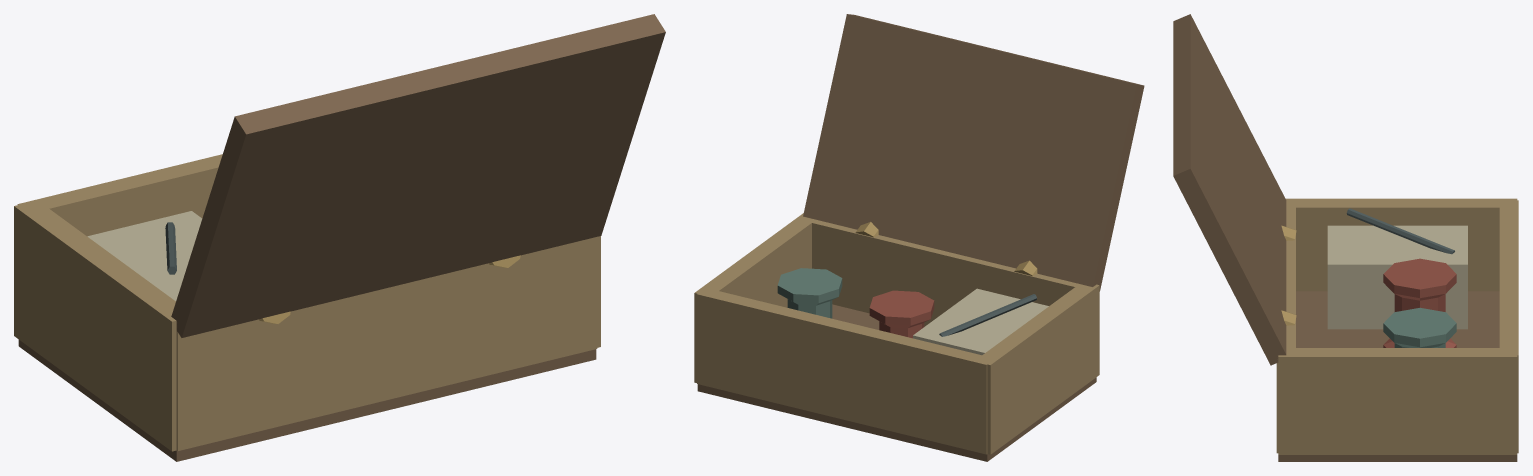
File: SWP_SewingKit.fbx
The picture shows the model from 3 angles, left to right: view 1: azimuth 30°, elevation 25°; view 2: azimuth 150°, elevation 25°; view 3: azimuth 270°, elevation 25°; orthographic projection. The views are drawn at different scales.
Visible parts, largest first — view 1: SWP_SewingKit; view 2: SWP_SewingKit; view 3: SWP_SewingKit.
Boxes of the visible parts, x1=… form: SWP_SewingKit: x1=14, y1=14, x2=665, y2=461; SWP_SewingKit: x1=694, y1=14, x2=1144, y2=461; SWP_SewingKit: x1=1173, y1=14, x2=1518, y2=461.
Bounding box in the file's own units: 0.235 × 0.2032 × 0.2171.
